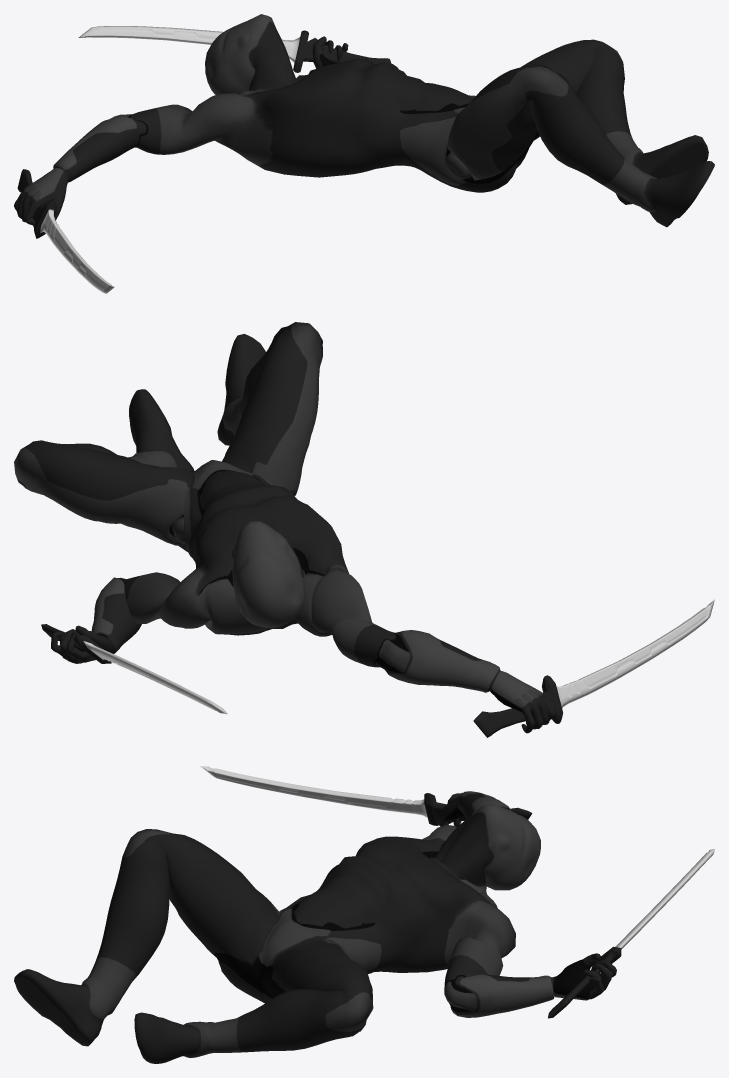
The picture shows the model from 3 angles, top to bottom: view 1: azimuth 30°, elevation 25°; view 2: azimuth 150°, elevation 25°; view 3: azimuth 270°, elevation 25°; orthographic projection. The views are drawn at different scales.
Visible parts, largest first — view 1: Cyborg_Ninja_Killer, Sword_l, Sword_l001; view 2: Cyborg_Ninja_Killer, Sword_l001, Sword_l; view 3: Cyborg_Ninja_Killer, Sword_l001, Sword_l.
Boxes of the visible parts, box(x1,y1,x2,y2) form: Cyborg_Ninja_Killer: box(14, 14, 714, 227); Sword_l: box(78, 26, 391, 72); Sword_l001: box(17, 169, 114, 293); Cyborg_Ninja_Killer: box(14, 322, 555, 733); Sword_l001: box(473, 599, 714, 737); Sword_l: box(41, 624, 227, 714); Cyborg_Ninja_Killer: box(14, 791, 616, 1063); Sword_l001: box(200, 766, 532, 825); Sword_l: box(548, 849, 714, 1018).
Size of the model in its own units: 184 by 53.76 by 183.
2 materials, 2 textured.
